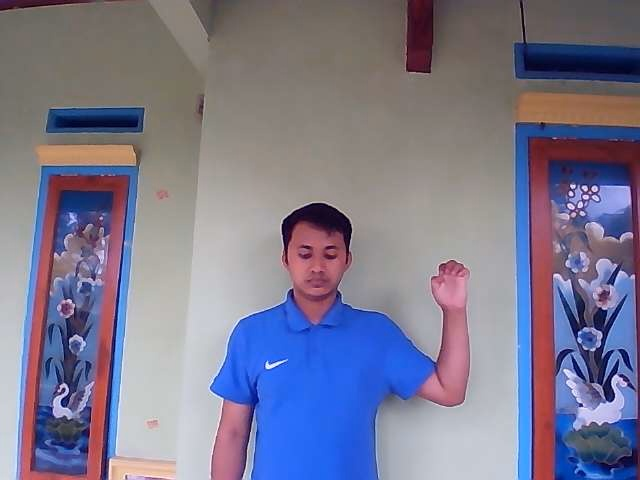E: (429, 260, 470, 310)
